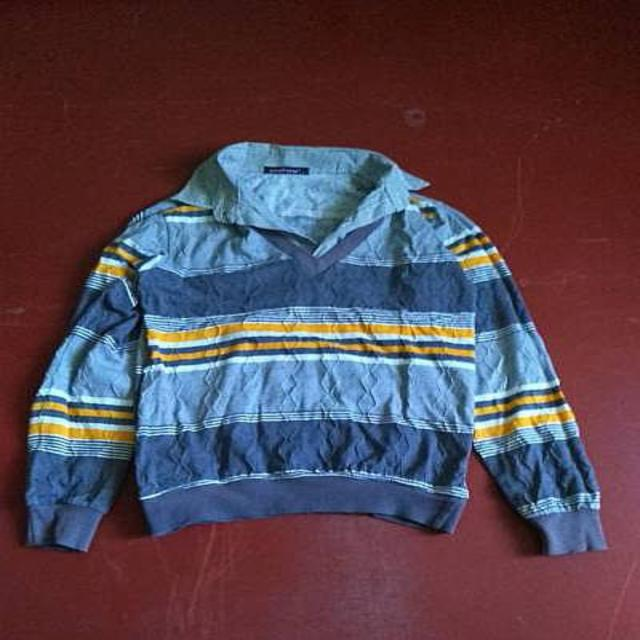SHIRT: (7, 134, 622, 566)
